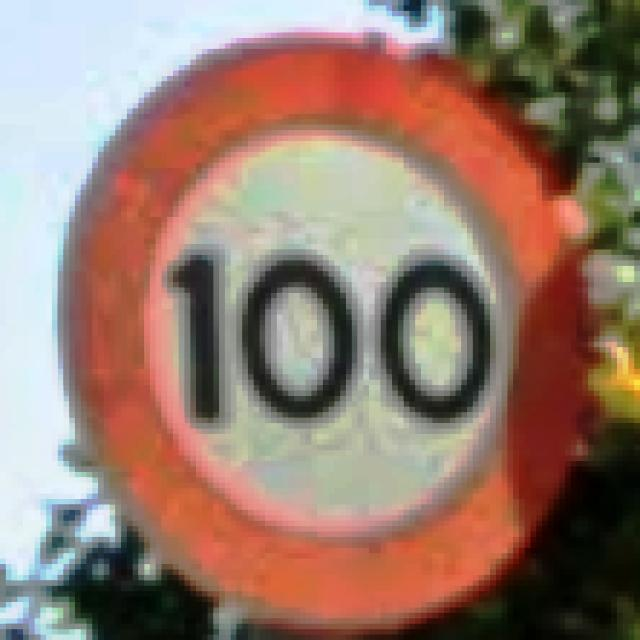max100: (52, 21, 600, 634)
